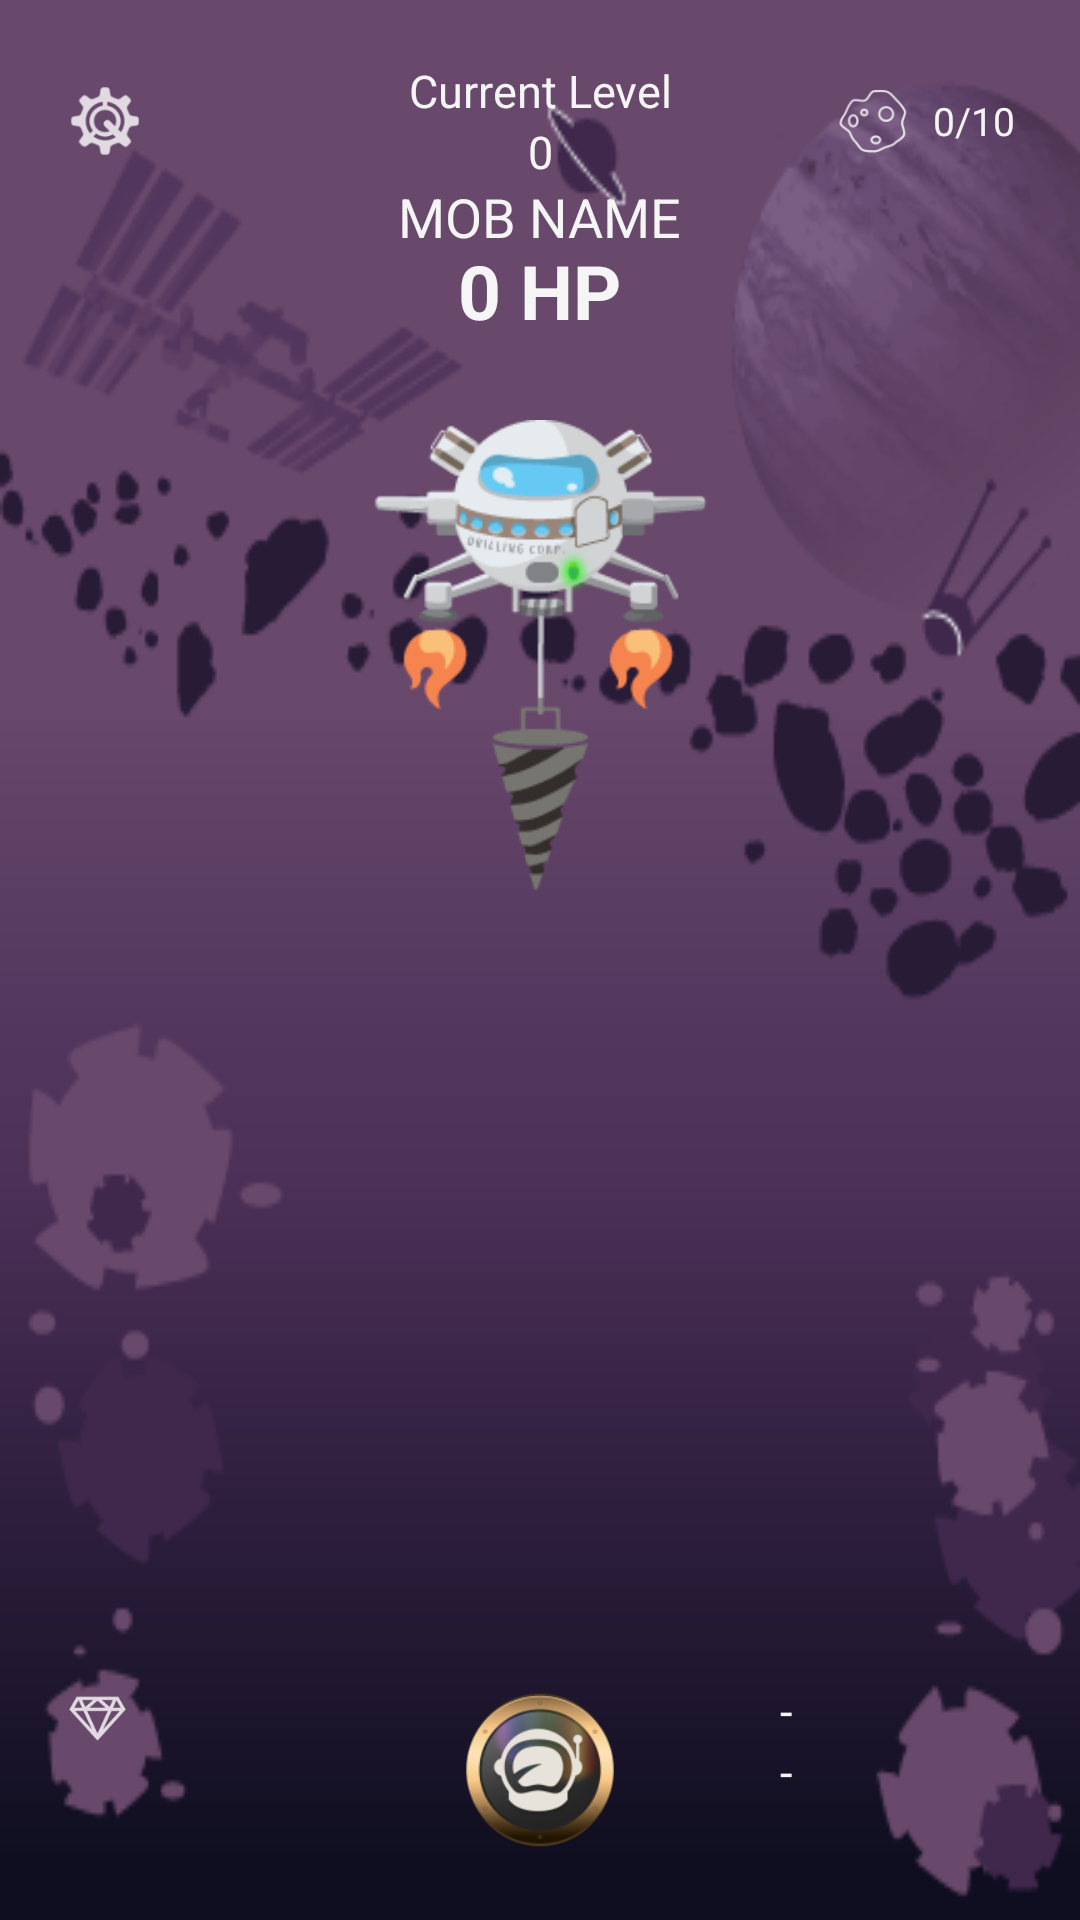

Named icons in this screenshot (1080 × 1920) and their centers, (x=x, y=y):
asteroid: (x=870, y=125)
diamond: (x=97, y=1718)
hero: (x=540, y=1770)
settings: (x=105, y=121)
